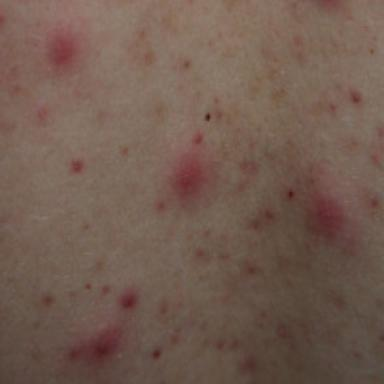acne: (308, 192, 350, 240), (173, 153, 205, 199), (49, 29, 77, 67), (91, 326, 122, 358), (119, 287, 139, 308), (349, 89, 361, 102), (71, 160, 83, 172), (193, 133, 203, 144)
